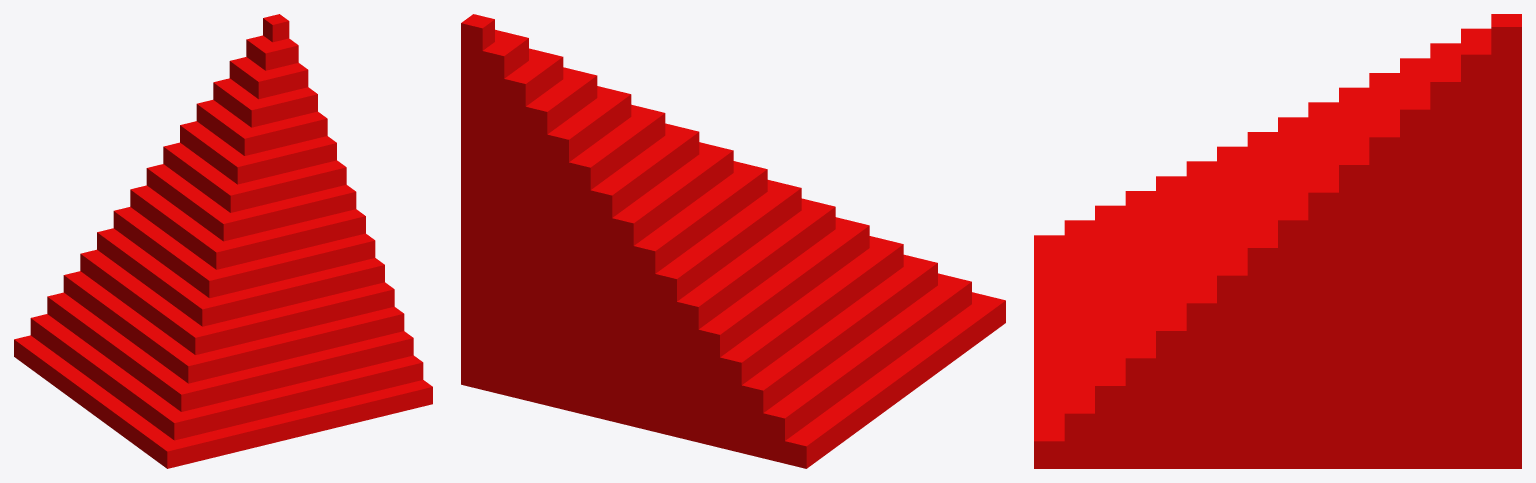
The model's file is cornertriangle.obj.
3 views of the same model, side by side, from view 1: azimuth 30°, elevation 25°; view 2: azimuth 150°, elevation 25°; view 3: azimuth 270°, elevation 25° (orthographic). The views are drawn at different scales.
Bounding box in the file's own units: 1.6 × 1.6 × 1.6.
Materials: 1 (1 with a texture image).
